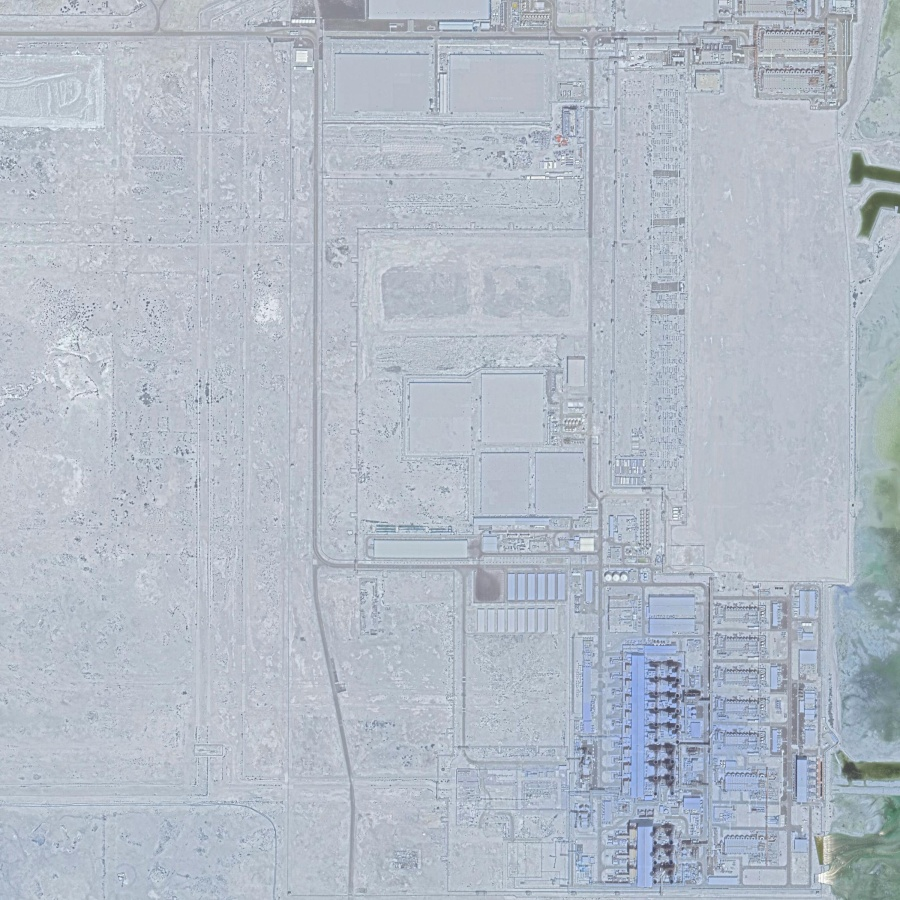PowerPlant: (592, 562, 854, 888)
